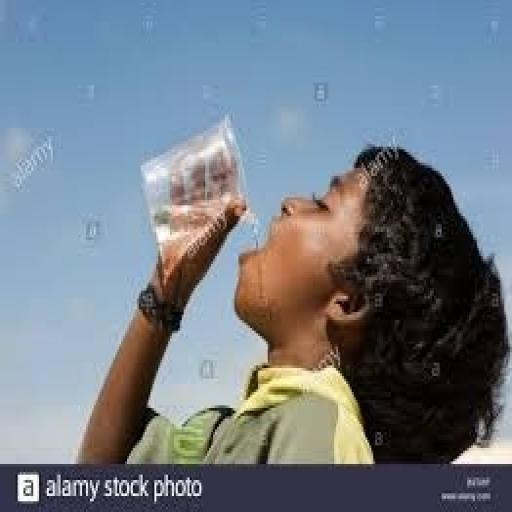drinking: (139, 110, 256, 254)
